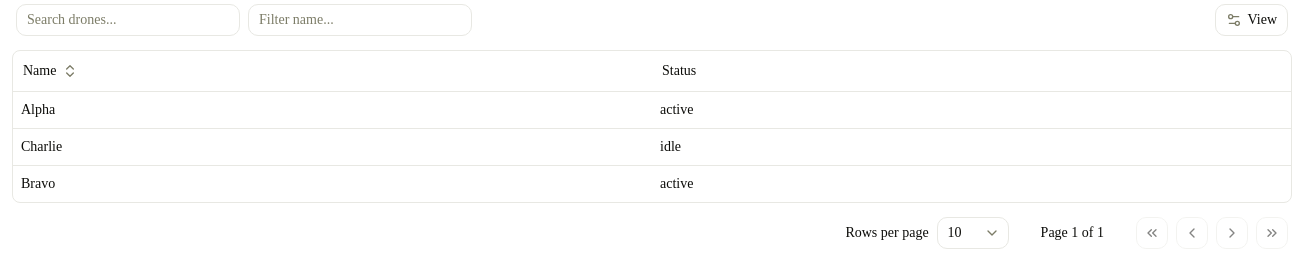
it: DataTable › filters rows with global and column filters and resets via toolbar
Type "Bravo" into the field with placeholder "Search drones..." at (128, 20), box [16,4,240,36]
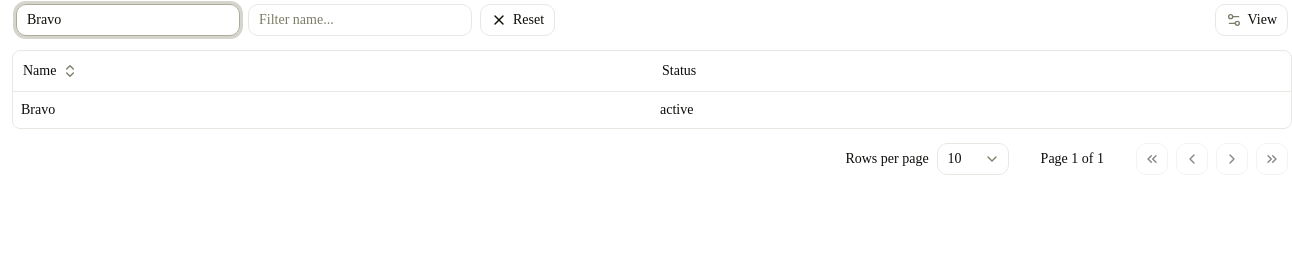
expect the text "Bravo" is shown: met, box [13,91,652,128]
expect the button with aria-label "Reset filters" is shown: met
Click the button with aria-label "Reset filters" at (518, 20), box [480,4,555,36]
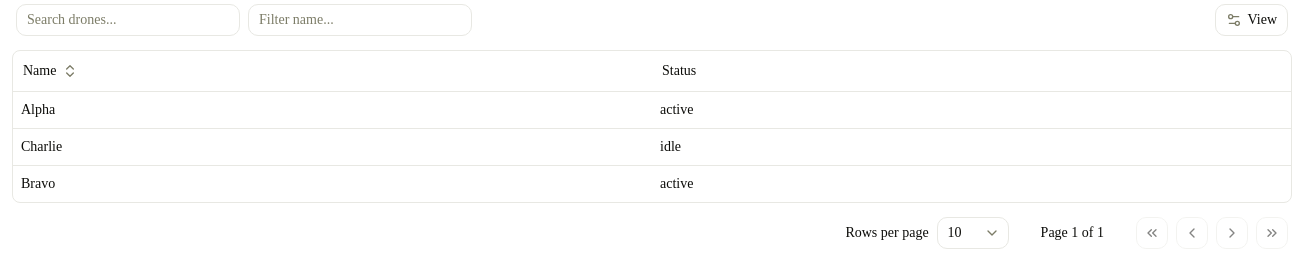
expect the text "Alpha" is shown: met, box [13,91,652,128]
expect the text "Charlie" is shown: met, box [13,128,652,165]
Type "Alpha" into the field with placeholder "Filter name..." at (360, 20), box [248,4,472,36]
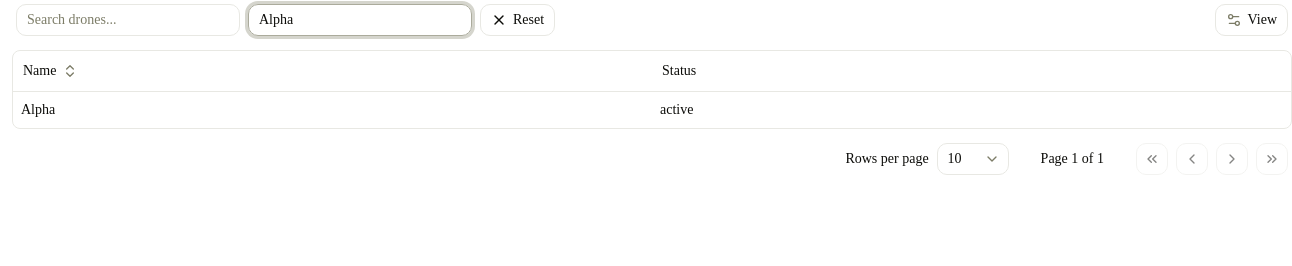
expect the text "Alpha" is shown: met, box [13,91,652,128]
Click the button with aria-label "Reset filters" at (518, 20), box [480,4,555,36]
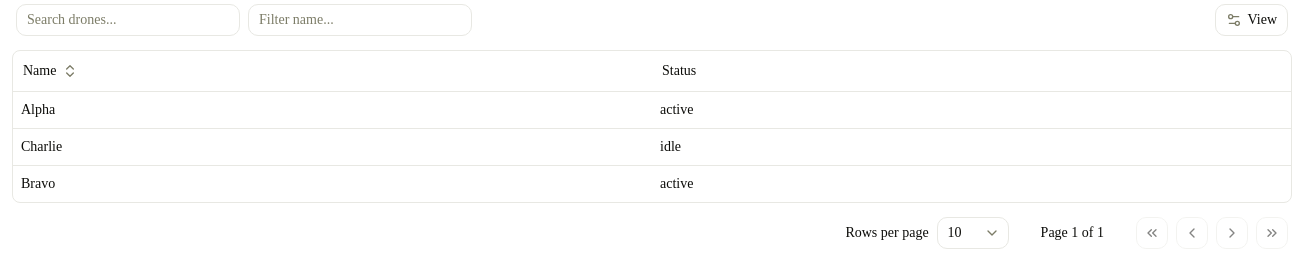
expect the text "Bravo" is shown: met, box [13,165,652,202]
